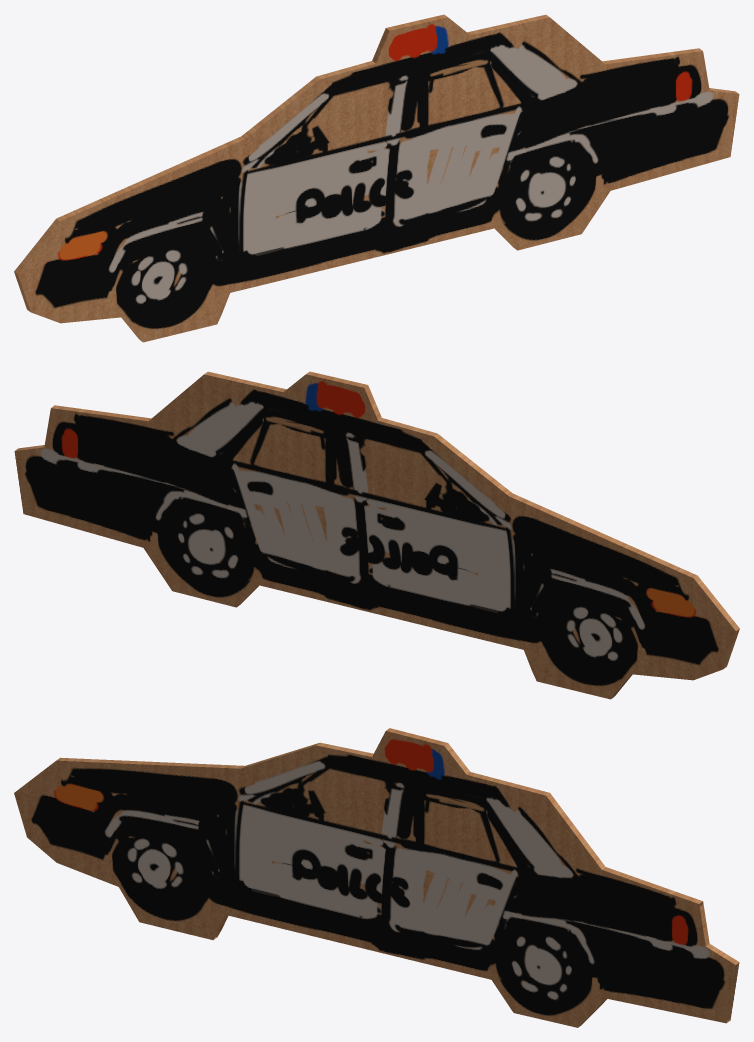
The model's file is car_1.FBX.
3 renders of one model, top to bottom at view 1: azimuth 30°, elevation 25°; view 2: azimuth 150°, elevation 25°; view 3: azimuth 330°, elevation 25°, orthographic.
Parts seen in each view (by area): view 1: car_1; view 2: car_1; view 3: car_1.
Part boxes in pixels (x1,y1,x2,y2): car_1: (14, 14, 739, 342); car_1: (14, 371, 739, 699); car_1: (14, 728, 739, 1027).
Bounding box in the file's own units: 749 × 249 × 7.
1 material, 1 textured.
